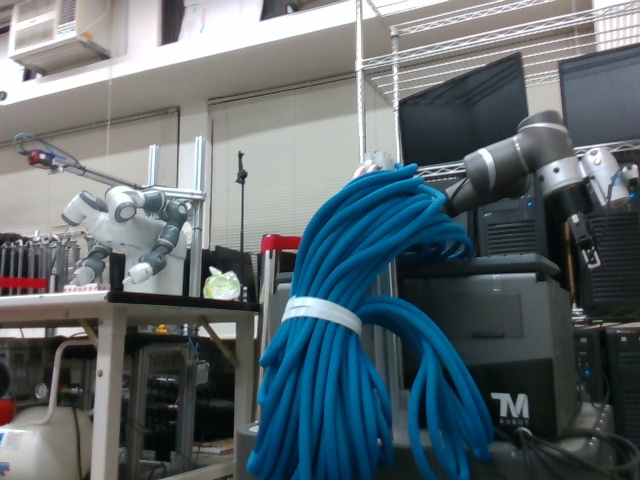rope: (239, 161, 495, 480)
